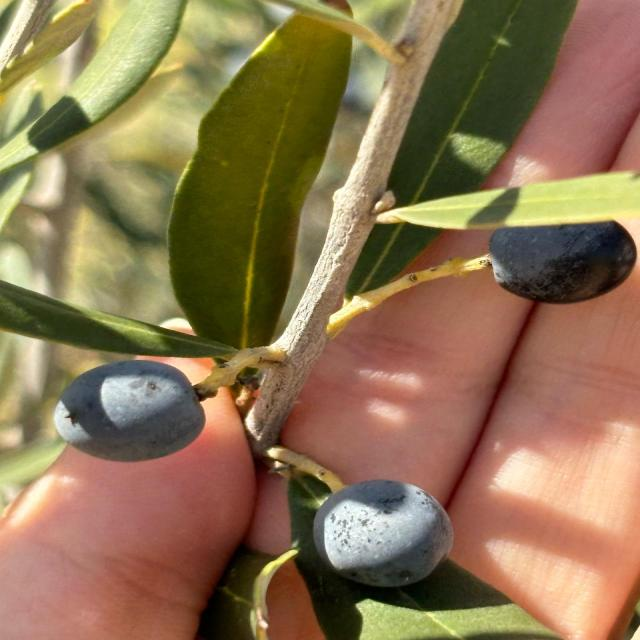Healthy: (54, 360, 205, 462), (313, 480, 451, 588), (489, 220, 636, 304)
